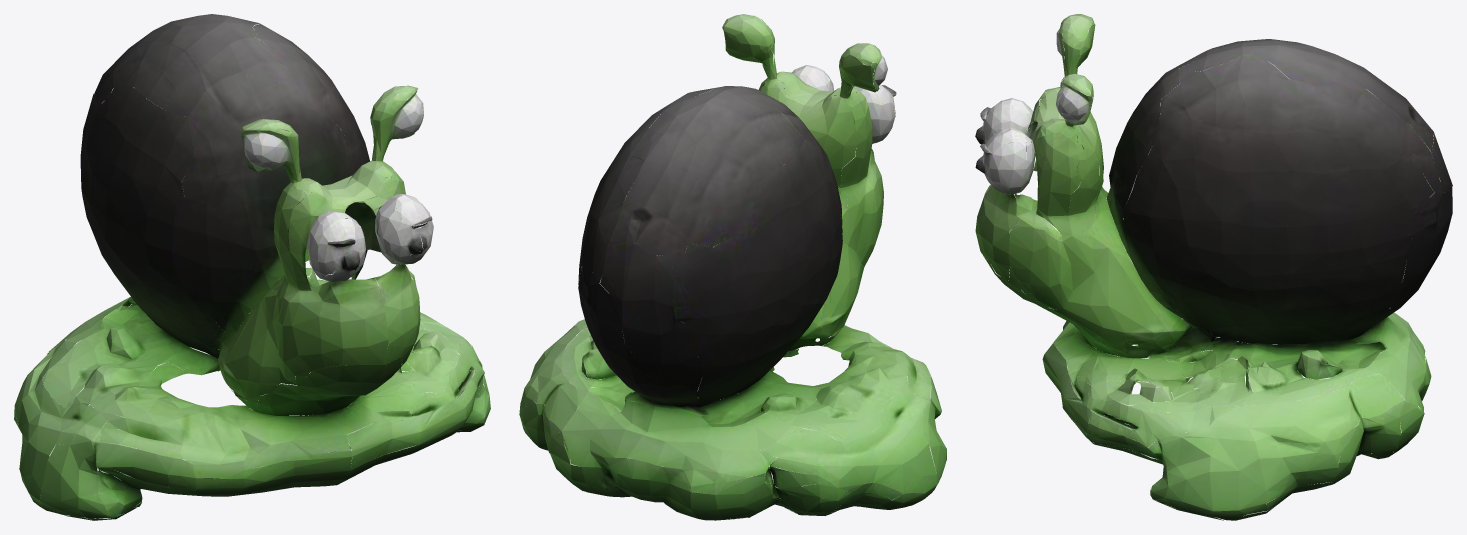
The picture shows the model from 3 angles, left to right: view 1: azimuth 30°, elevation 25°; view 2: azimuth 150°, elevation 25°; view 3: azimuth 270°, elevation 25°; orthographic projection. The views are drawn at different scales.
Parts seen in each view (by area): view 1: world; view 2: world; view 3: world.
Part boxes in pixels (box(x1,y1,x2,y2)): world: box(14, 14, 490, 520); world: box(519, 14, 946, 520); world: box(975, 14, 1452, 520).
Size of the model in its own units: 0.9802 by 0.8903 by 0.9987.
1 material, 1 textured.
